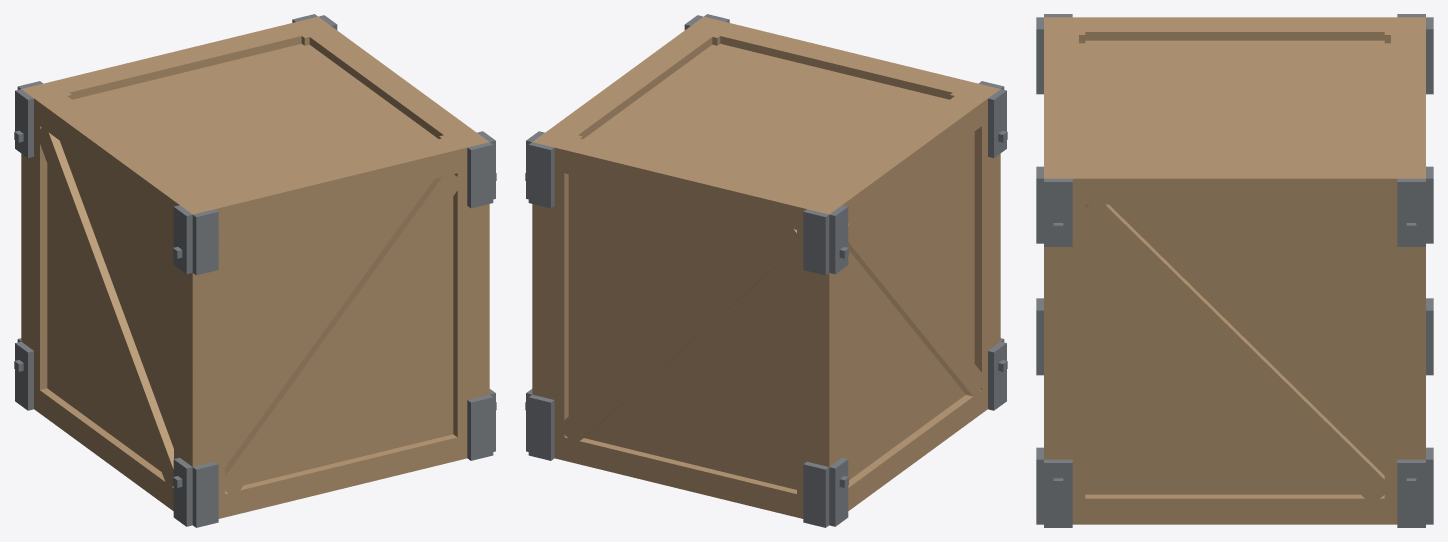
Rendered from crate.glb.
3 renders of one model, left to right at view 1: azimuth 30°, elevation 25°; view 2: azimuth 150°, elevation 25°; view 3: azimuth 270°, elevation 25°, orthographic. The views are drawn at different scales.
Visible parts, largest first — view 1: Crate_Woodwork, Crate_Hardware; view 2: Crate_Woodwork, Crate_Hardware; view 3: Crate_Woodwork, Crate_Hardware.
Boxes of the visible parts, x1,y1,x2,y2 form: Crate_Woodwork: [21, 16, 489, 518]; Crate_Hardware: [14, 14, 496, 527]; Crate_Woodwork: [532, 16, 1000, 518]; Crate_Hardware: [525, 14, 1007, 527]; Crate_Woodwork: [1044, 17, 1425, 524]; Crate_Hardware: [1036, 14, 1433, 527].
Size of the model in its own units: 2.58 by 2.4 by 2.5.
